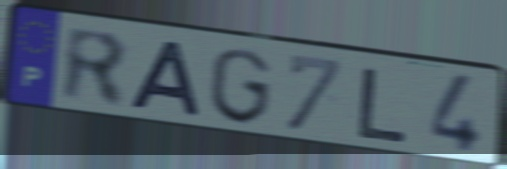4: (427, 69, 485, 159)
7: (285, 51, 344, 135)
A: (126, 38, 205, 122)
G: (208, 46, 274, 128)
L: (354, 65, 411, 146)
R: (60, 23, 131, 112)
